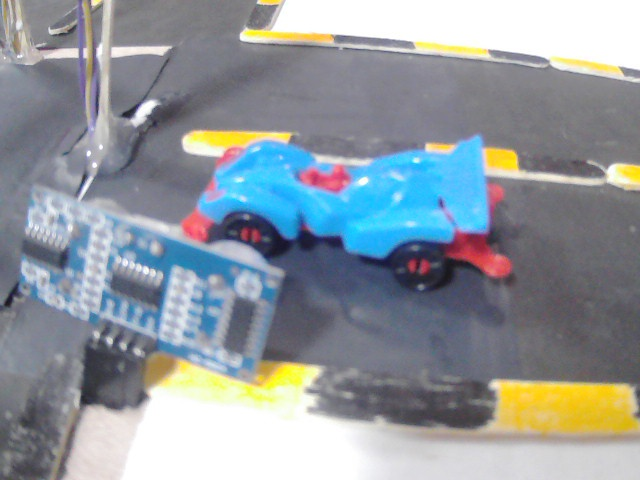car: (186, 133, 516, 299)
uno_breadboard: (13, 192, 276, 378)
